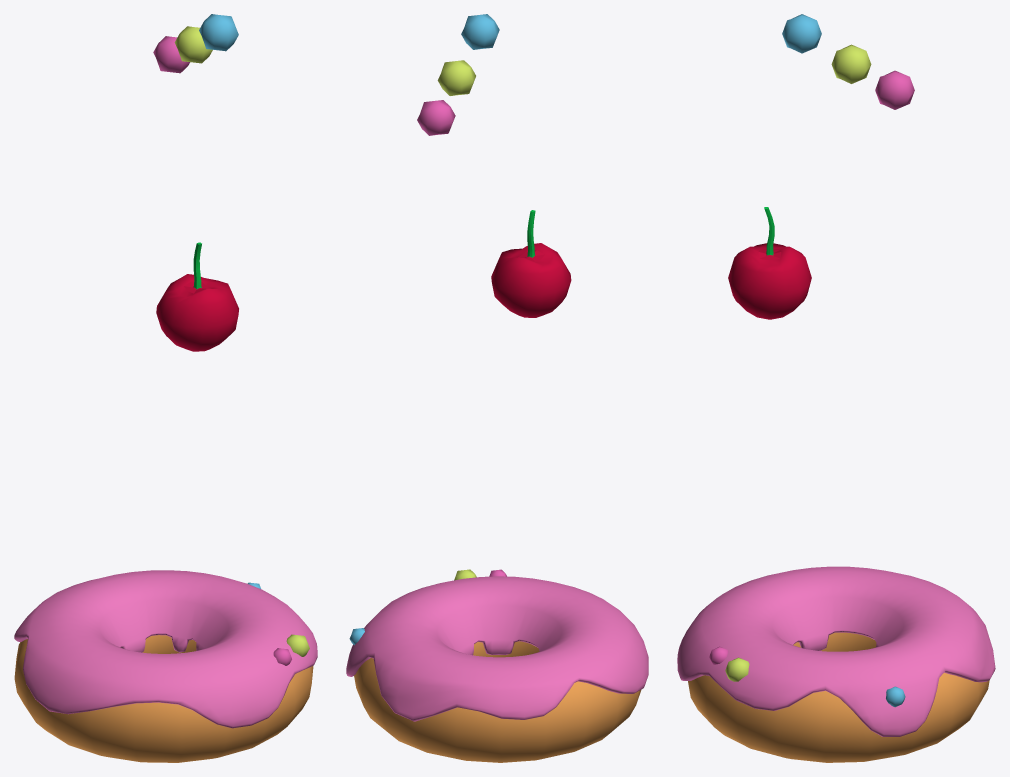
The model's file is candies.fbx.
3 renders of one model, left to right at view 1: azimuth 30°, elevation 25°; view 2: azimuth 150°, elevation 25°; view 3: azimuth 270°, elevation 25°, orthographic. The views are drawn at different scales.
Visible parts, largest first — view 1: doughnut, Cherry, candies1, candies, candies2; view 2: doughnut, Cherry, candies1, candies2, candies; view 3: doughnut, Cherry, candies2, candies1, candies.
Part boxes in pixels (x1,y1,x2,y2): doughnut: (14, 570, 317, 762); Cherry: (156, 242, 238, 351); candies1: (199, 14, 238, 51); candies: (174, 26, 212, 63); candies2: (153, 36, 189, 73); doughnut: (346, 569, 648, 762); Cherry: (491, 210, 571, 317); candies1: (461, 14, 499, 49); candies2: (417, 100, 455, 135); candies: (437, 60, 475, 95); doughnut: (677, 566, 995, 762); Cherry: (728, 207, 811, 319); candies2: (875, 70, 914, 109); candies1: (782, 14, 821, 53); candies: (831, 44, 871, 83).
Size of the model in its own units: 1.65 by 4.16 by 1.67.
